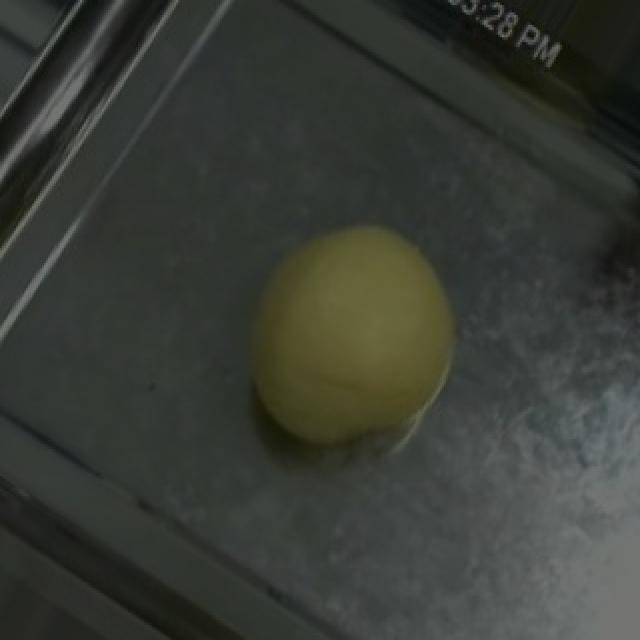Fruit: (196, 179, 504, 486)
